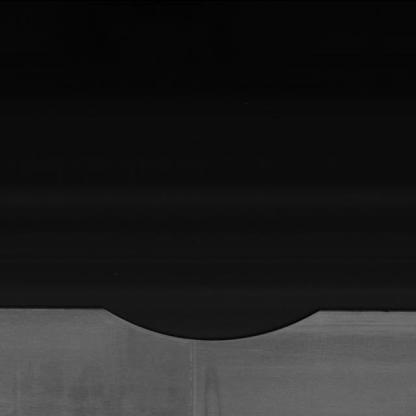crescent_gap: (86, 278, 327, 350)
welding_line: (174, 328, 214, 415)
